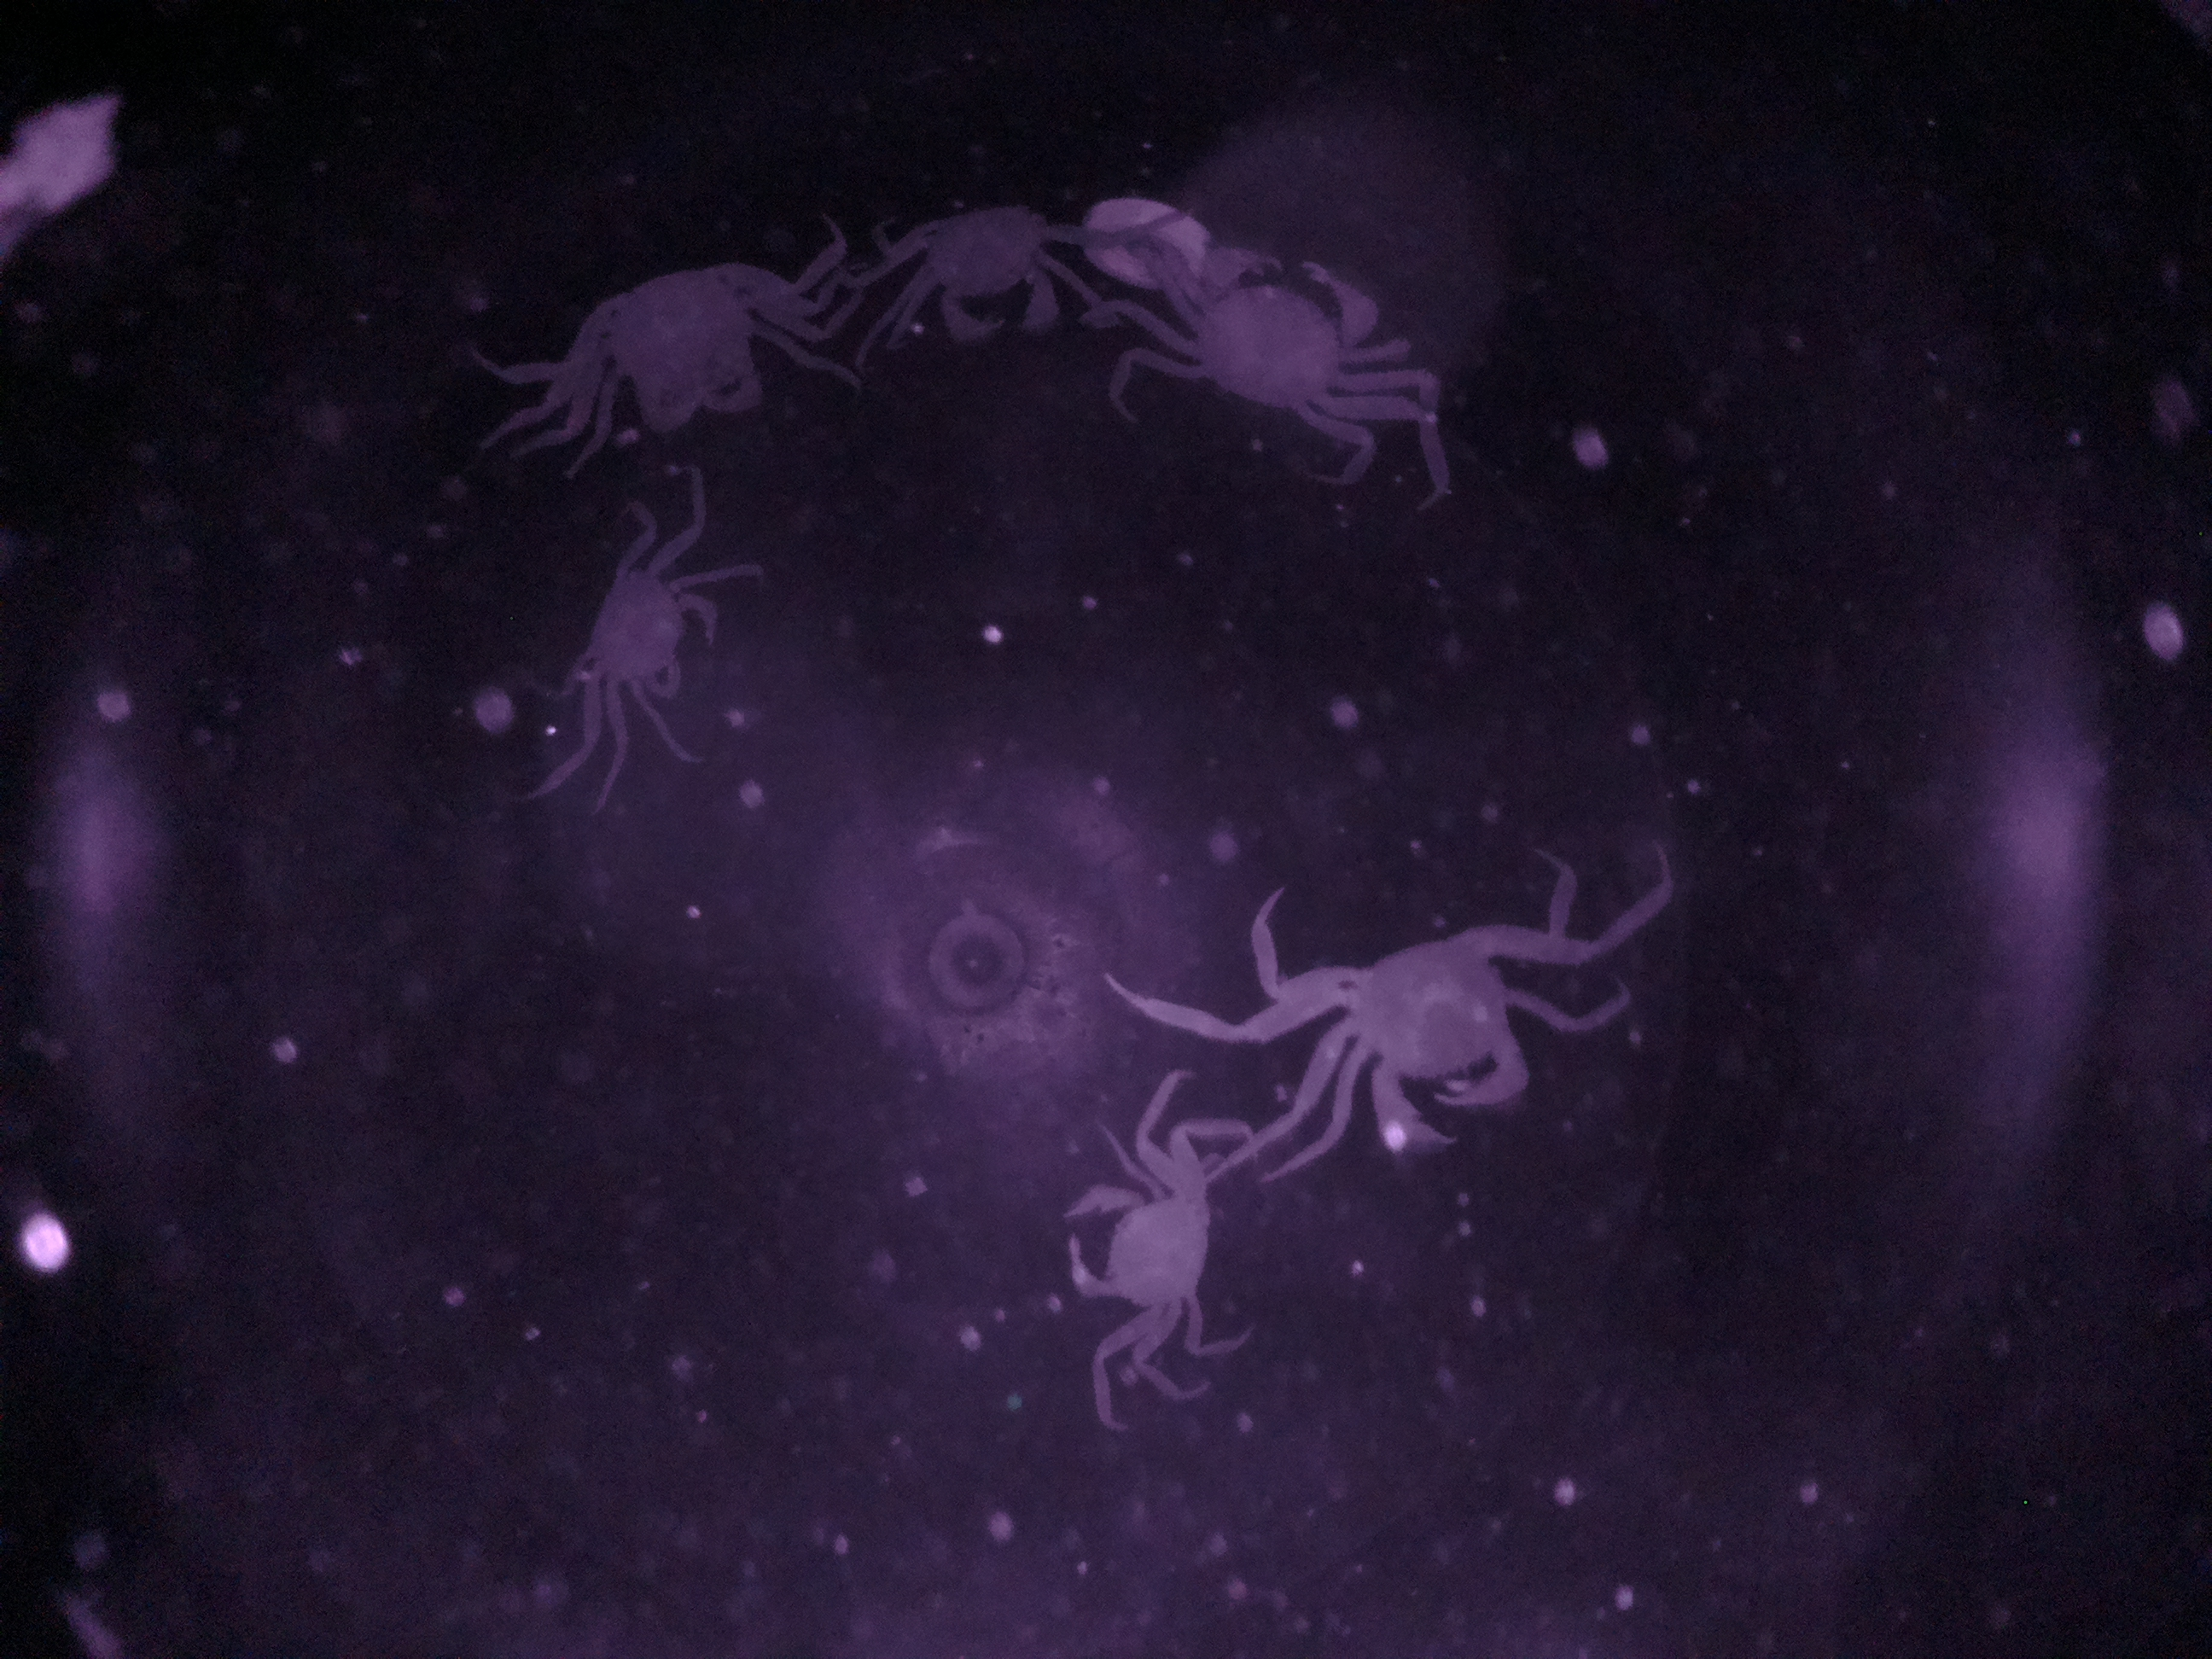Crab: (1254, 904, 1562, 1182), (1158, 230, 1420, 451), (564, 223, 784, 457), (1042, 1127, 1224, 1349), (545, 542, 737, 744), (864, 169, 1068, 345)
